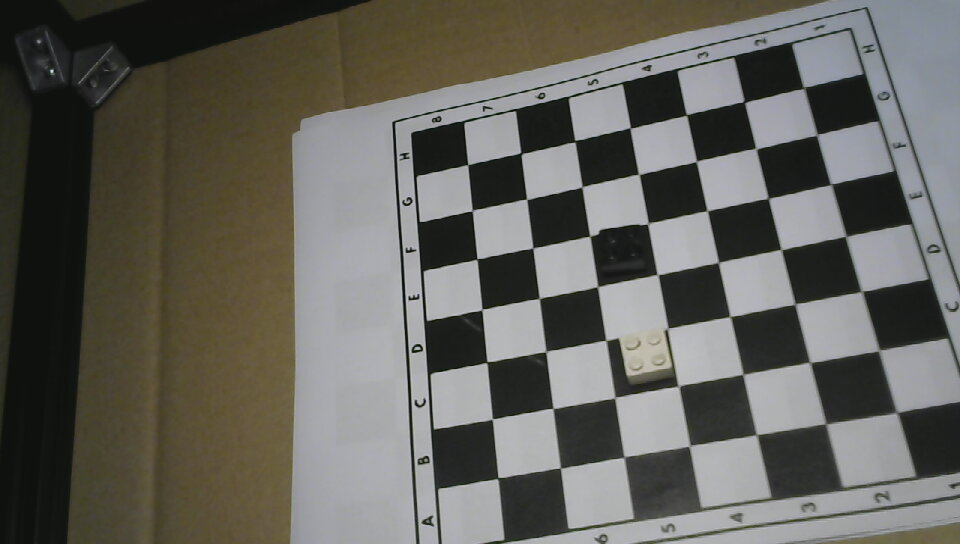bp: (595, 224, 651, 276)
